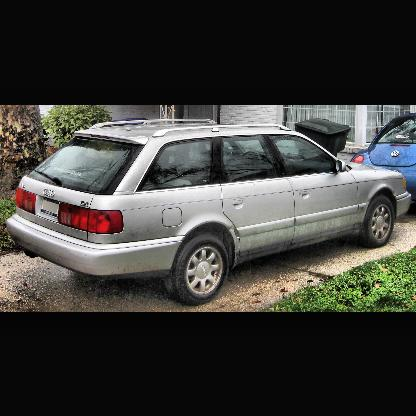Audi 100 Wagon 1994: (5, 117, 414, 305)
